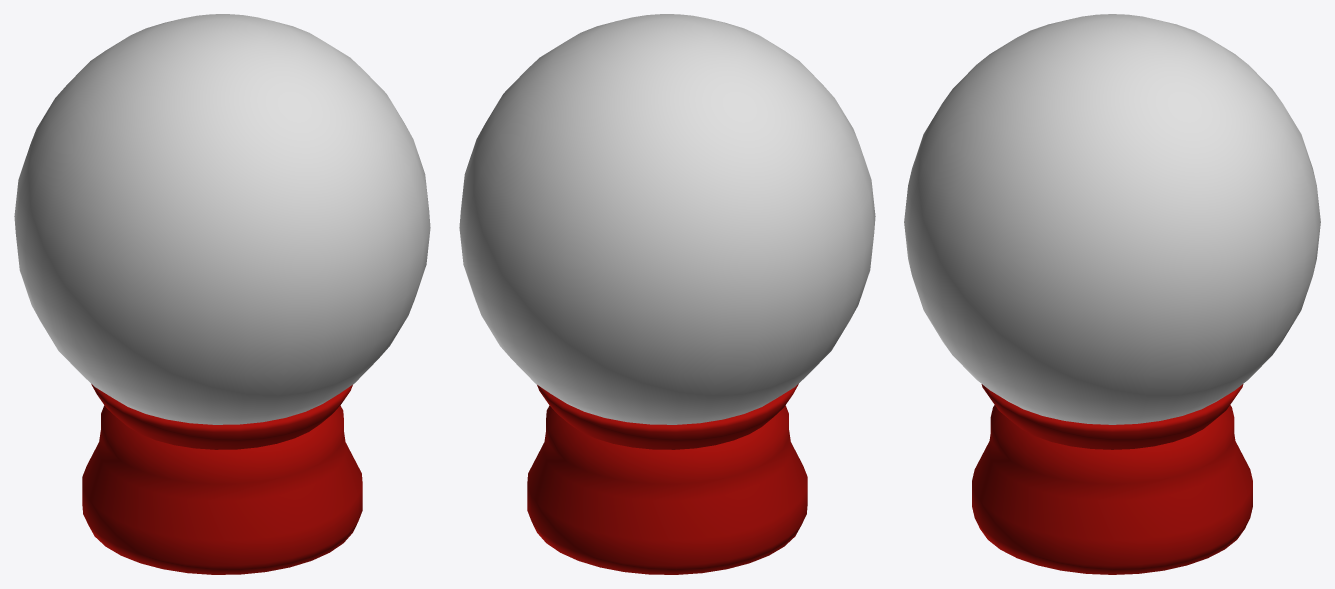
Rendered from globe.glb.
3 renders of one model, left to right at view 1: azimuth 30°, elevation 25°; view 2: azimuth 150°, elevation 25°; view 3: azimuth 270°, elevation 25°, orthographic.
Visible parts, largest first — view 1: Sphere, Cylinder; view 2: Sphere, Cylinder; view 3: Sphere, Cylinder.
Boxes of the visible parts, <box> form: Sphere: <box>14,14,430,424</box>; Cylinder: <box>82,384,362,574</box>; Sphere: <box>459,14,875,424</box>; Cylinder: <box>527,384,807,574</box>; Sphere: <box>904,14,1320,424</box>; Cylinder: <box>972,384,1252,574</box>.
Size of the model in its own units: 16 by 20.53 by 16.
